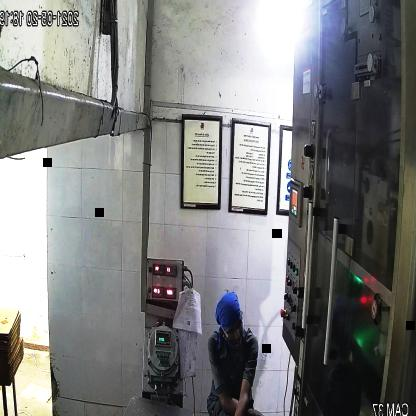goggles: (220, 315, 247, 342)
